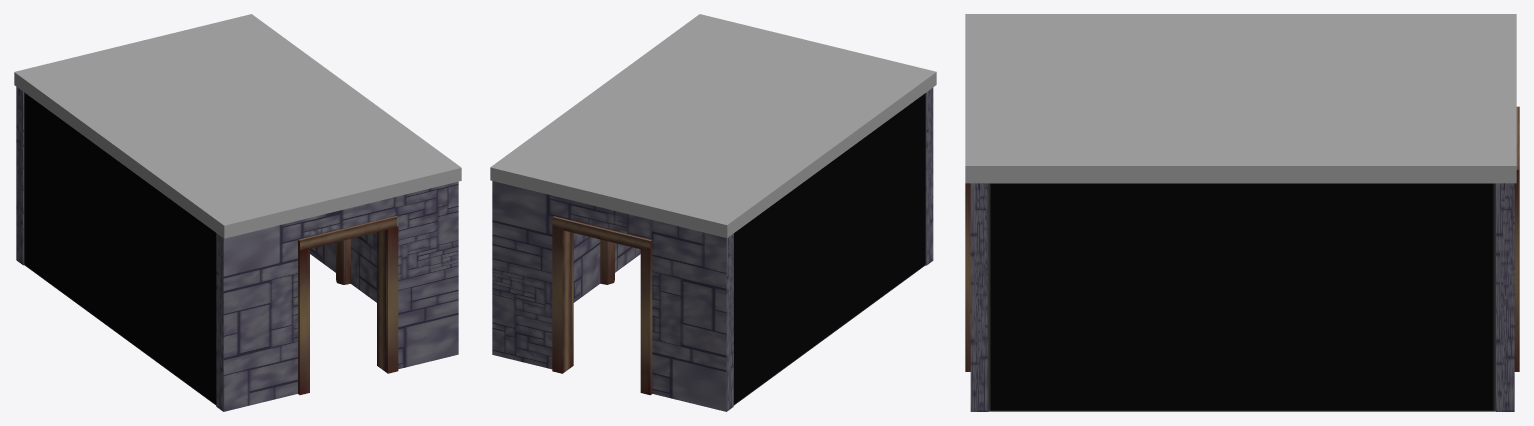
Rendered from Corridor.fbx.
The picture shows the model from 3 angles, left to right: view 1: azimuth 30°, elevation 25°; view 2: azimuth 150°, elevation 25°; view 3: azimuth 270°, elevation 25°; orthographic projection. The views are drawn at different scales.
Visible parts, largest first — view 1: pCube3, pCube2, Wall10, pCube1, Wall11; view 2: pCube3, pCube2, Wall11, pCube1, Wall10; view 3: pCube1, pCube3, Wall11, Wall10.
Boxes of the visible parts, x1,y1,x2,y2 form: pCube3: [14, 14, 461, 238]; pCube2: [24, 92, 216, 405]; Wall10: [216, 181, 458, 411]; pCube1: [310, 232, 376, 302]; Wall11: [16, 87, 23, 265]; pCube3: [490, 14, 936, 237]; pCube2: [733, 93, 925, 405]; Wall11: [492, 181, 733, 411]; pCube1: [573, 233, 640, 302]; Wall10: [925, 87, 933, 265]; pCube1: [987, 183, 1495, 411]; pCube3: [965, 14, 1516, 183]; Wall11: [1496, 106, 1519, 411]; Wall10: [965, 183, 988, 411].
Size of the model in its own units: 221 by 167 by 340.
3 materials, 2 textured.
